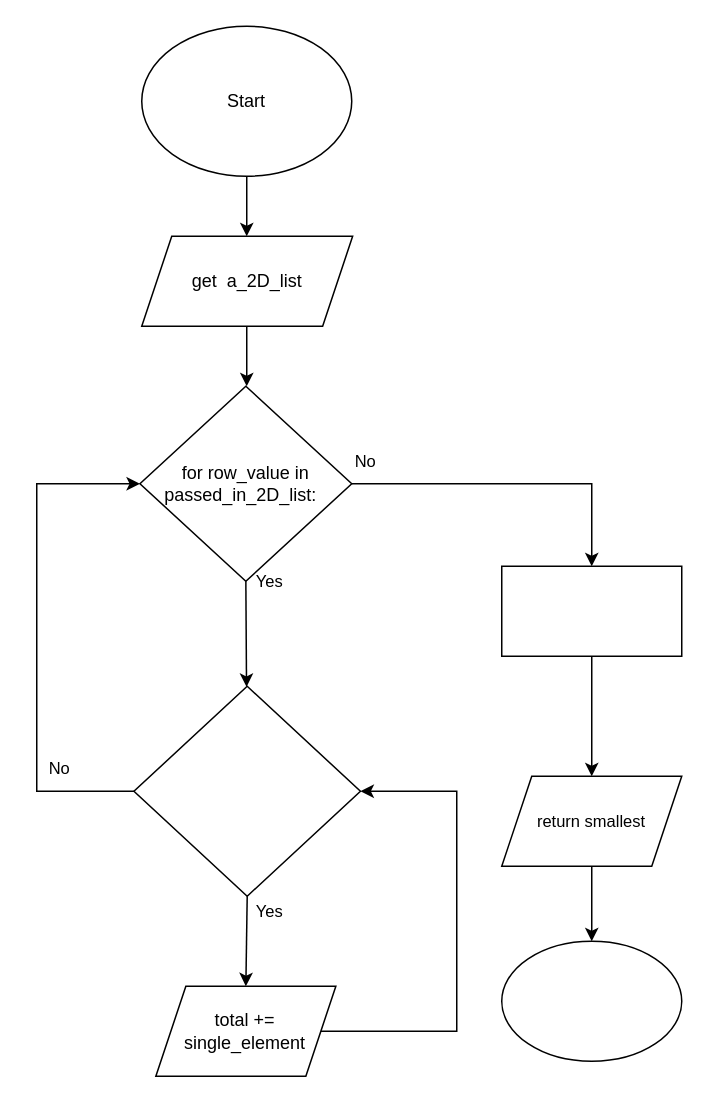
Some shapes in this 708 by 1103 pixel diagram are drawn without their labels. Here are the shapes that lost their labels. From the top down, the box of each, then its label:
(500, 565, 682, 656): average = round(total / (rows * columns))
(132, 685, 360, 896): for single_element in row_value:
(500, 940, 682, 1061): Stop
